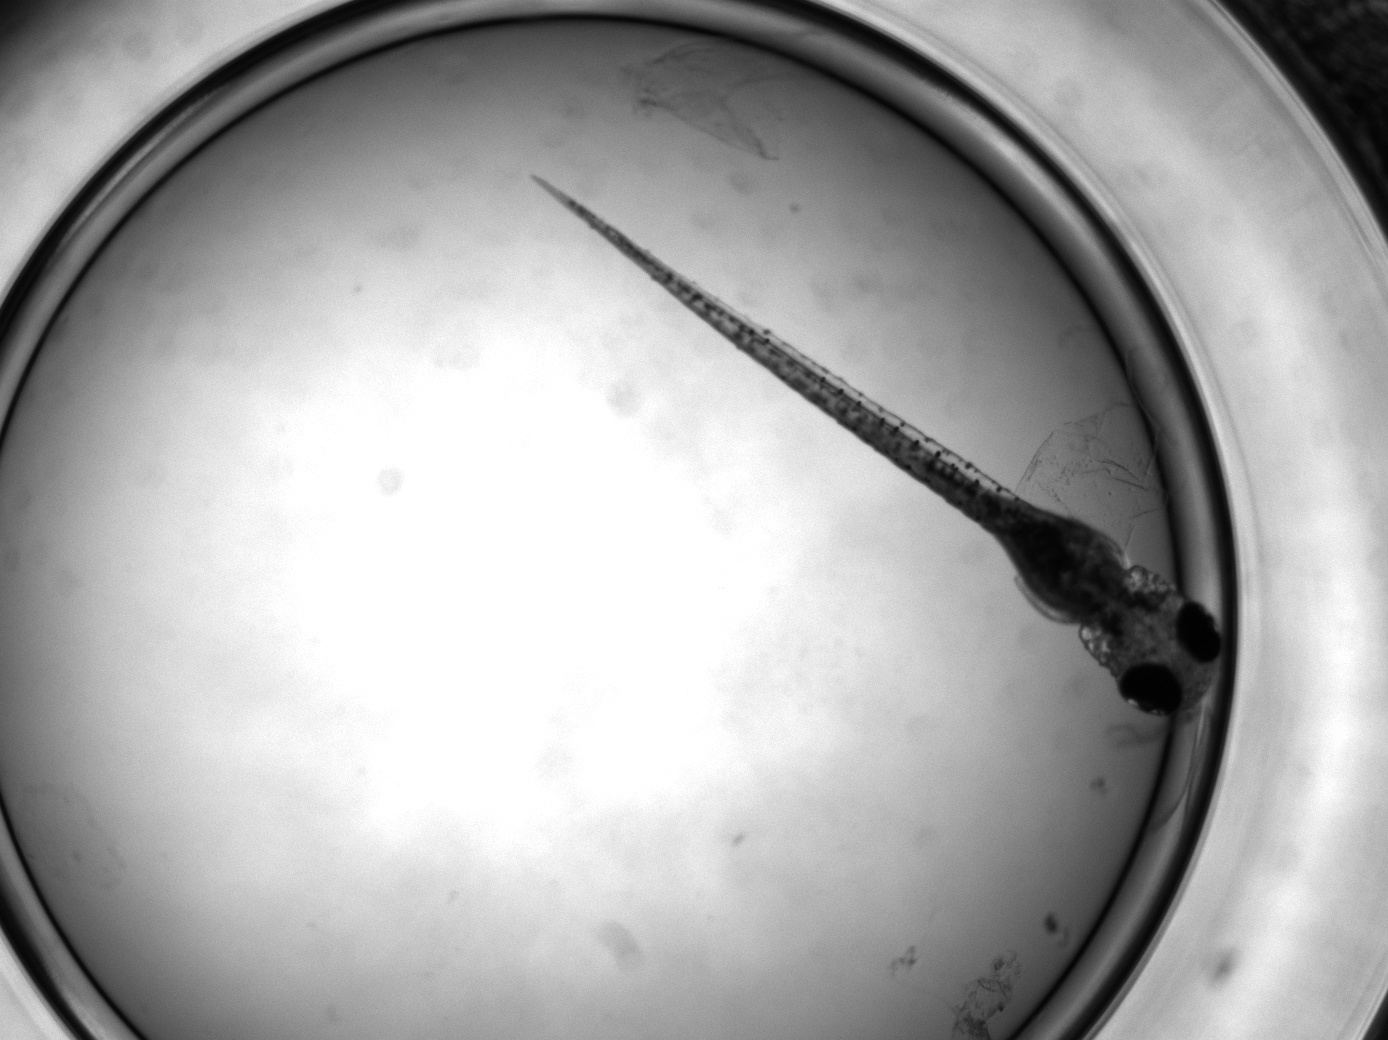debris: (612, 32, 800, 162), (1016, 399, 1165, 557), (893, 949, 1023, 1040)
embryo: (529, 173, 1226, 719)
eye: (1118, 663, 1185, 716), (1176, 601, 1224, 664)
yolksac: (992, 498, 1135, 622)
